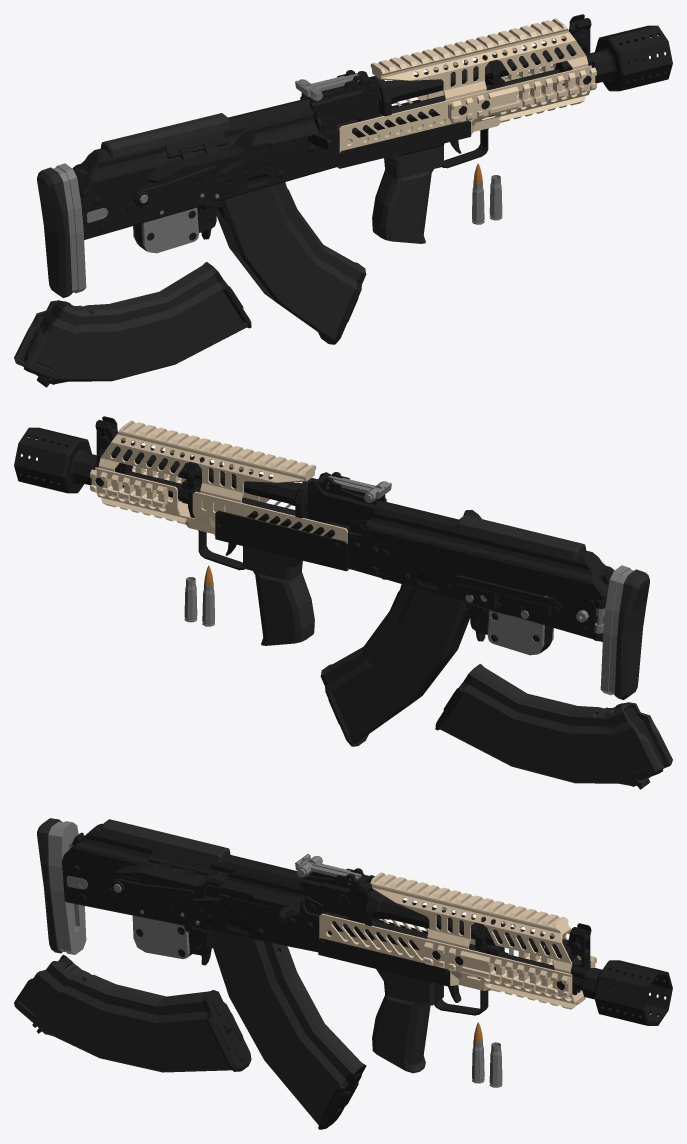
Rendered from low-poly_ak-104_kochevnik.glb.
3 renders of one model, top to bottom at view 1: azimuth 30°, elevation 25°; view 2: azimuth 150°, elevation 25°; view 3: azimuth 330°, elevation 25°, orthographic.
Visible parts, largest first — view 1: kochevnik handguard_8, kochevnik receiver_3, akm 30rnd epmty mag (polymer)_12, akm 30rnd mag (polymer)_13, kochevnik dust cover_6, kochevnik muzzle device_7, kochevnik barrel_4, kochevnik bolt_5, kochevnik selector_0; view 2: kochevnik receiver_3, kochevnik handguard_8, akm 30rnd epmty mag (polymer)_12, akm 30rnd mag (polymer)_13, kochevnik dust cover_6, kochevnik muzzle device_7, kochevnik barrel_4; view 3: kochevnik handguard_8, kochevnik receiver_3, akm 30rnd epmty mag (polymer)_12, akm 30rnd mag (polymer)_13, kochevnik dust cover_6, kochevnik muzzle device_7, kochevnik barrel_4, kochevnik bolt_5, kochevnik selector_0, 76239 case_11, Object_29.
Part boxes in pixels (x1,y1,x2,y2): kochevnik handguard_8: (337,18,596,243); kochevnik receiver_3: (37,43,551,297); akm 30rnd epmty mag (polymer)_12: (14,262,251,387); akm 30rnd mag (polymer)_13: (216,182,366,344); kochevnik dust cover_6: (72,98,311,199); kochevnik muzzle device_7: (590,25,672,91); kochevnik barrel_4: (337,14,594,135); kochevnik bolt_5: (241,111,332,155); kochevnik selector_0: (130,156,246,208); kochevnik receiver_3: (135,445,649,699); kochevnik handguard_8: (90,420,349,645); akm 30rnd epmty mag (polymer)_12: (435,664,672,789); akm 30rnd mag (polymer)_13: (320,584,470,746); kochevnik dust cover_6: (367,500,614,601); kochevnik muzzle device_7: (14,427,96,493); kochevnik barrel_4: (93,416,349,537); kochevnik handguard_8: (318,872,596,1073); kochevnik receiver_3: (37,818,551,958); akm 30rnd epmty mag (polymer)_12: (14,954,251,1072); akm 30rnd mag (polymer)_13: (207,930,366,1129); kochevnik dust cover_6: (63,819,312,888); kochevnik muzzle device_7: (581,960,672,1025); kochevnik barrel_4: (325,911,611,995); kochevnik bolt_5: (208,871,545,947); kochevnik selector_0: (110,875,221,902); 76239 case_11: (489,1042,502,1087); Object_29: (472,1039,484,1083).
Size of the model in its own units: 6.32 by 2.49 by 0.6828.
